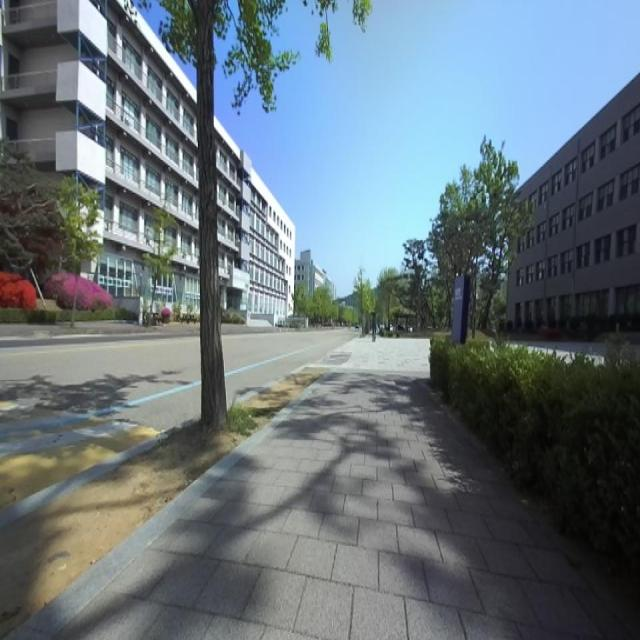sidewalk: (57, 372, 640, 639), (326, 335, 430, 378)
